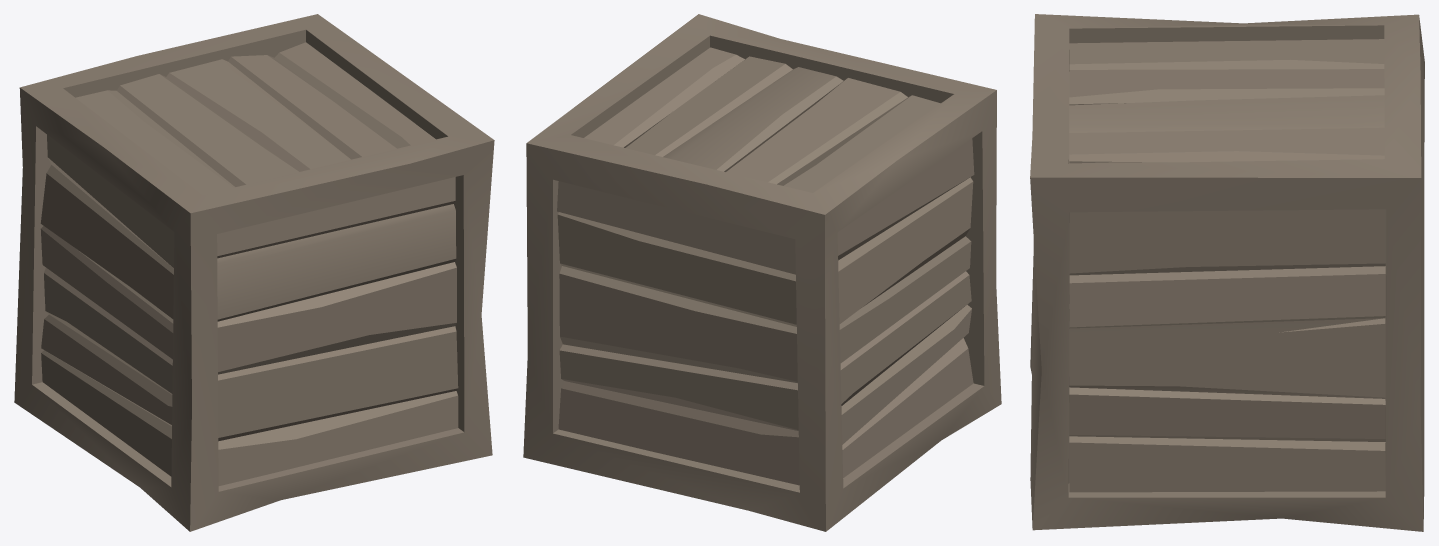
Rendered from crate.glb.
3 renders of one model, left to right at view 1: azimuth 30°, elevation 25°; view 2: azimuth 150°, elevation 25°; view 3: azimuth 270°, elevation 25°, orthographic. The views are drawn at different scales.
Visible parts, largest first — view 1: Object_4; view 2: Object_4; view 3: Object_4.
Part boxes in pixels (x1,y1,x2,y2): Object_4: (14,14,494,531); Object_4: (523,14,1001,531); Object_4: (1030,14,1424,531).
Bounding box in the file's own units: 1.01 × 1.02 × 1.01.
